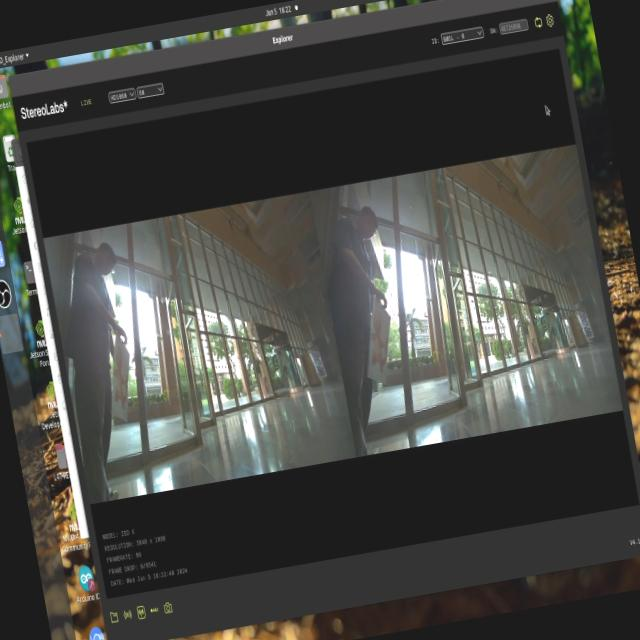red: (107, 346, 139, 416), (368, 312, 393, 372)
